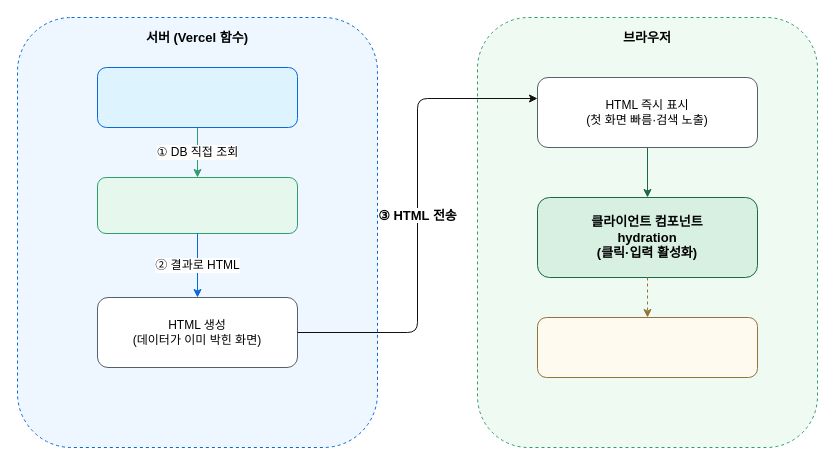
This 835x465 diagram has some shape labels left out. The shapes that lost their labels are listed below. From the top down, each one's centre as x and y in pixels, then its label:
At (197,97): "서버 컴포넌트 (기본)".
At (197,205): "🟩 Supabase DB".
At (647,347): "개인화(로그인 상태·역할)는 여기서 getClaims로 가져옴".
